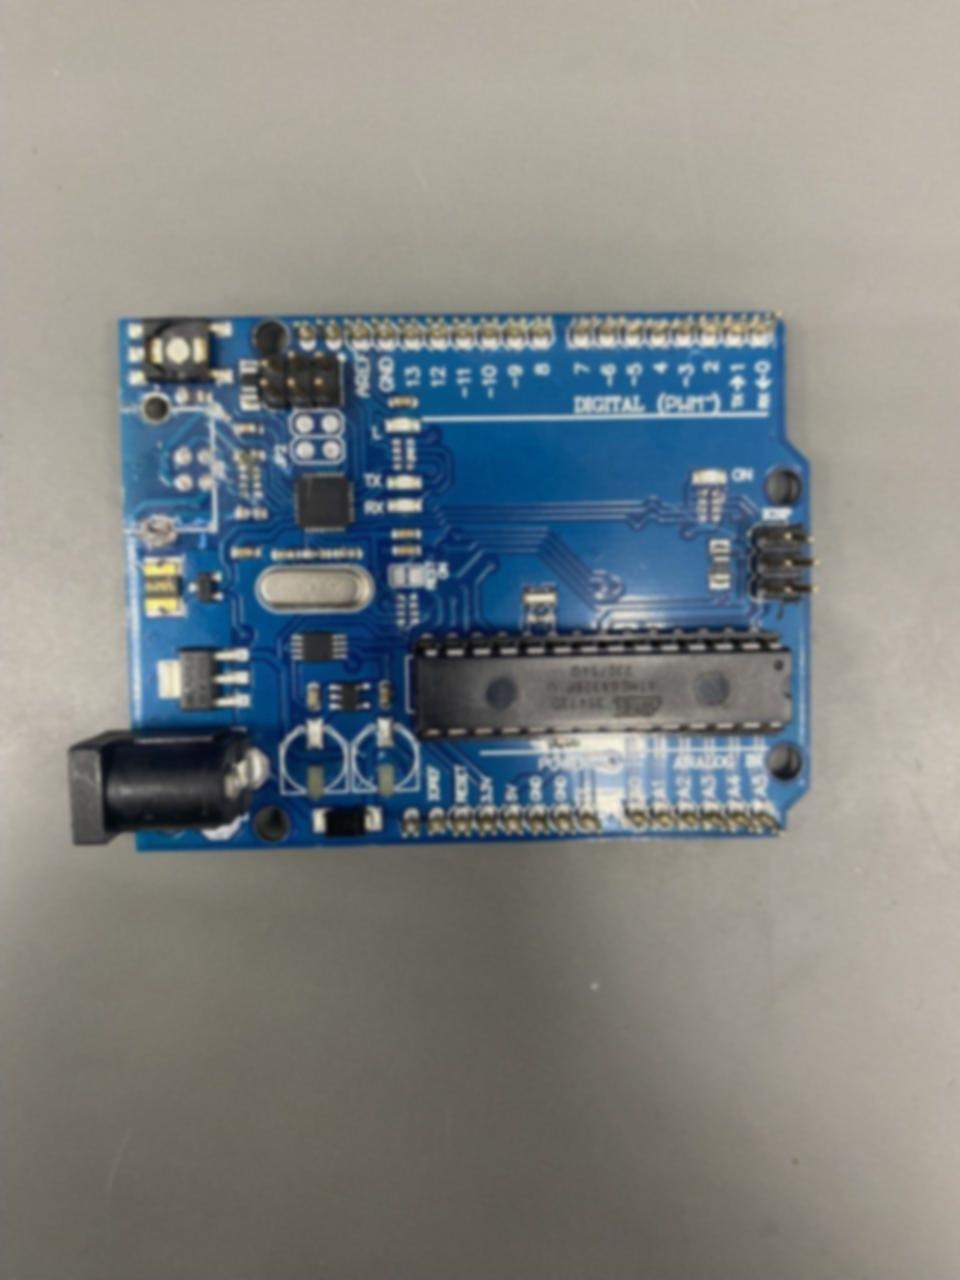ATmega328 chip: (414, 630, 794, 741)
Arduino board: (67, 311, 819, 852)
